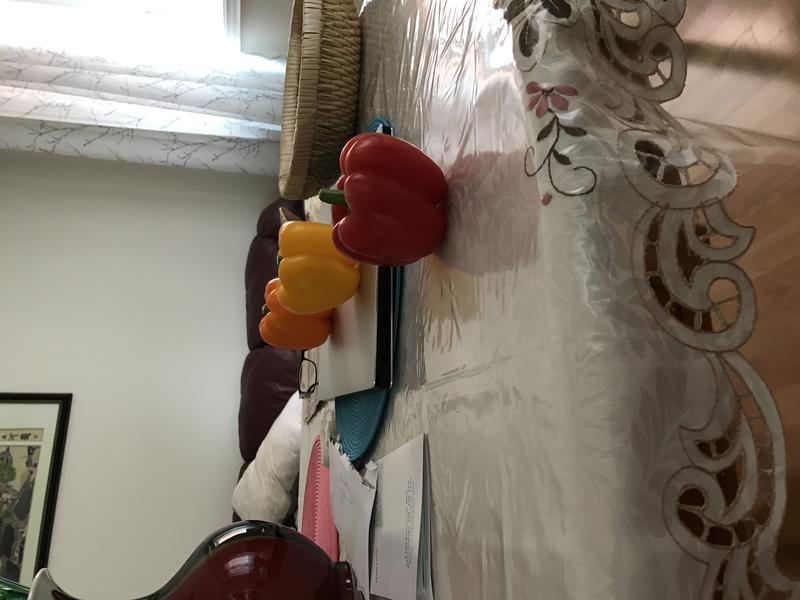orange_pepper: (251, 270, 336, 352)
red_pepper: (316, 129, 457, 270)
yellow_pepper: (273, 217, 364, 317)
